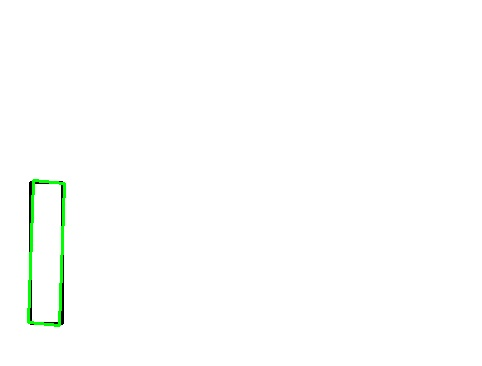line_segment: (28, 180, 65, 326)
